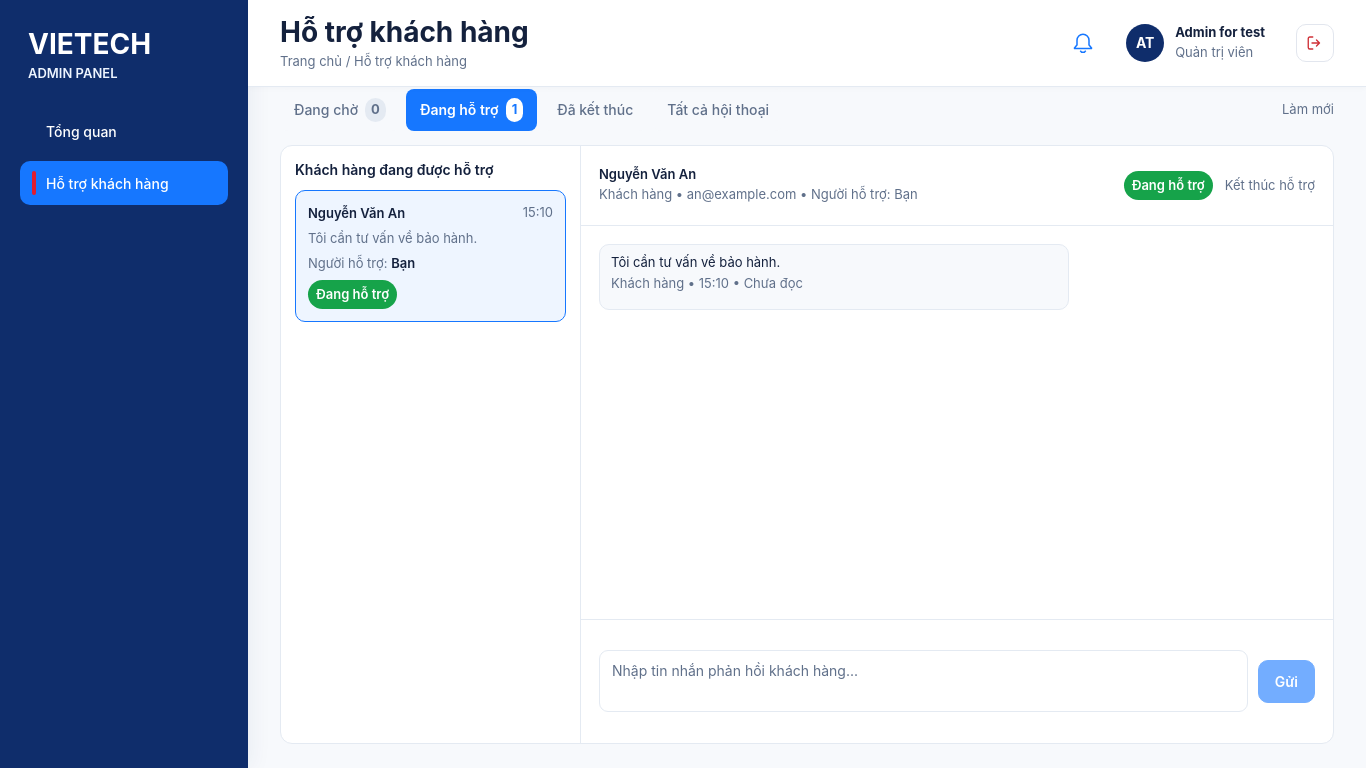
it: failed send opens a modal over the current page and closing preserves the draft
The image size is (1366, 768).
(page scrolled)
Type "<script>Không chạy mã</script>" into the text box named "Tin nhắn trả lời".
click(923, 681); type("<script>Không chạy mã</script>")  # box [599, 650, 1248, 712]
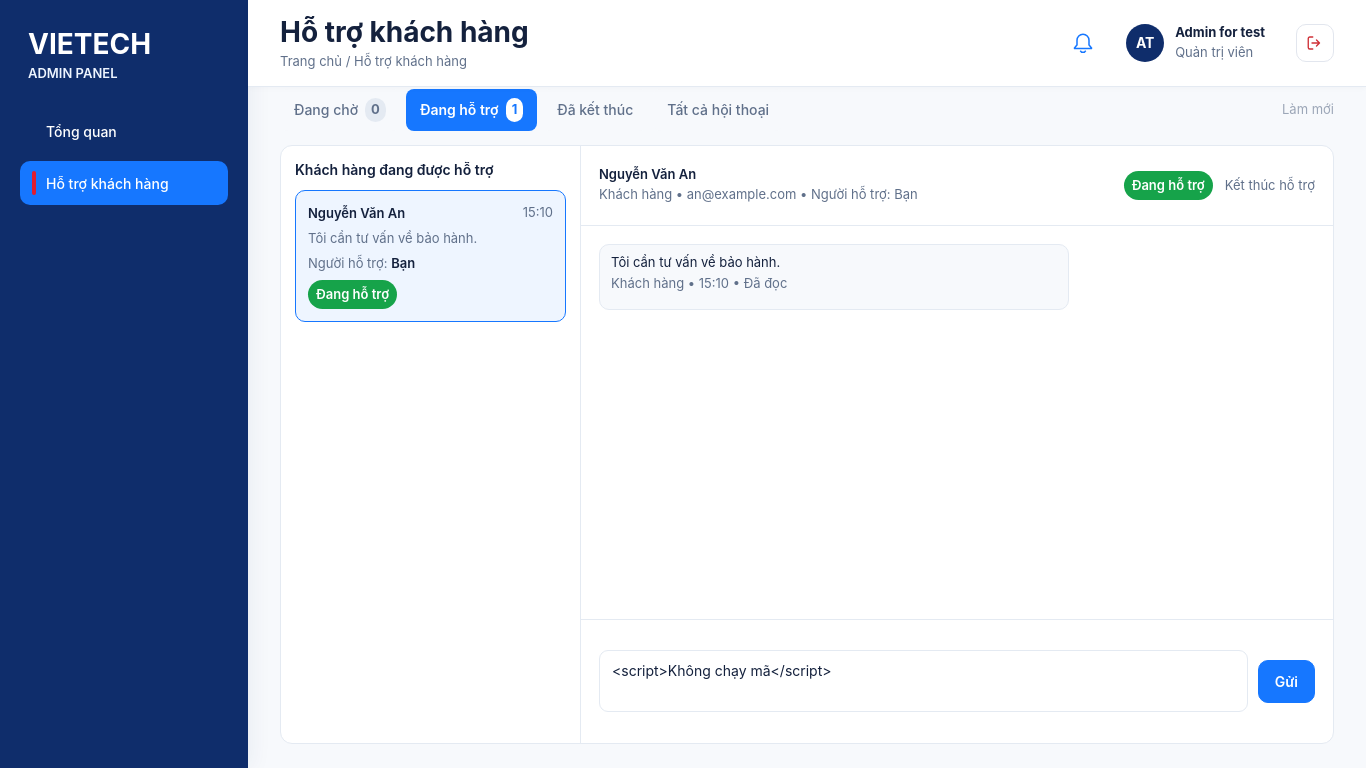
Click the button with aria-label "Gửi tin nhắn".
click(1286, 681)  # box [1258, 660, 1315, 703]
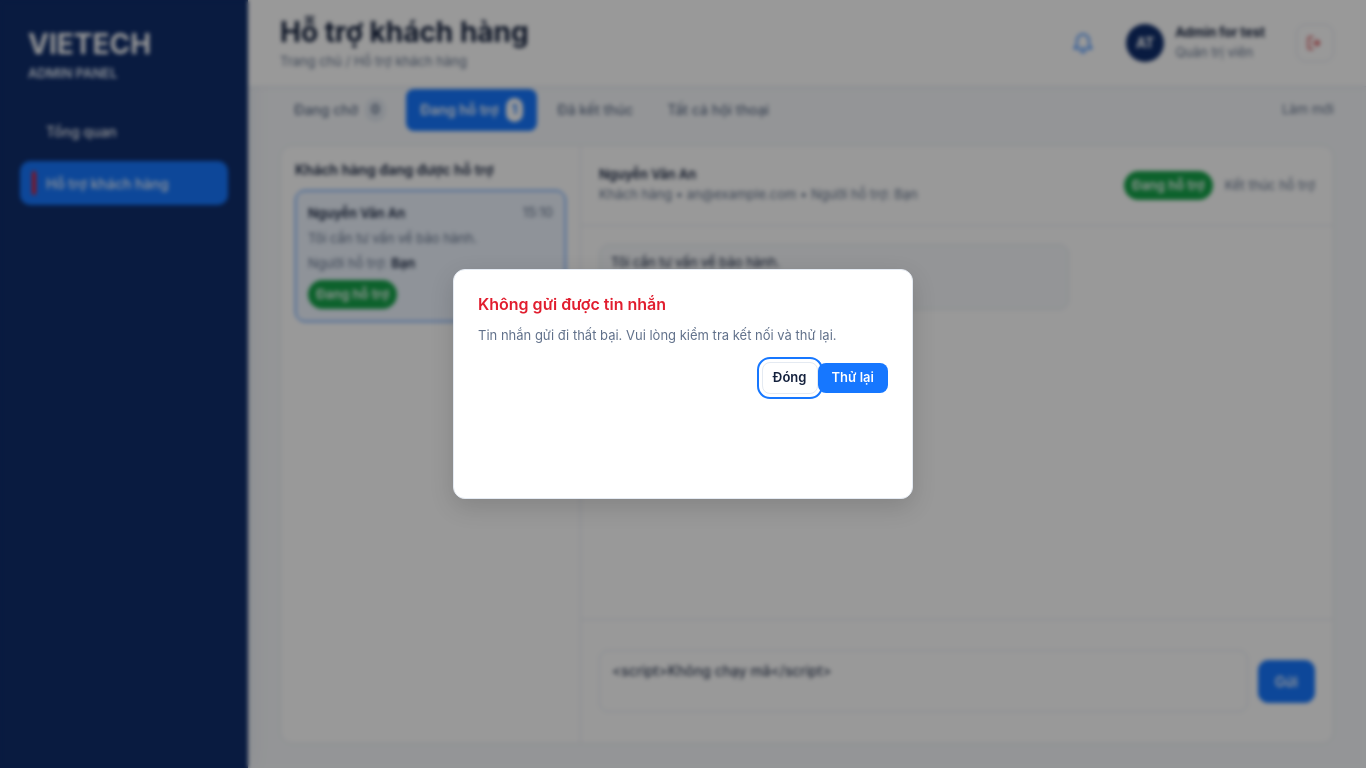
Now the text "Tin nhắn gửi đi thất bại. Vui lòng kiểm tra kết nối và thử lại." is shown, box [478, 326, 888, 346]
Now the number of dialogs is 1, box [453, 269, 913, 499]
Click the button "Đóng".
click(790, 378)  # box [762, 362, 818, 394]
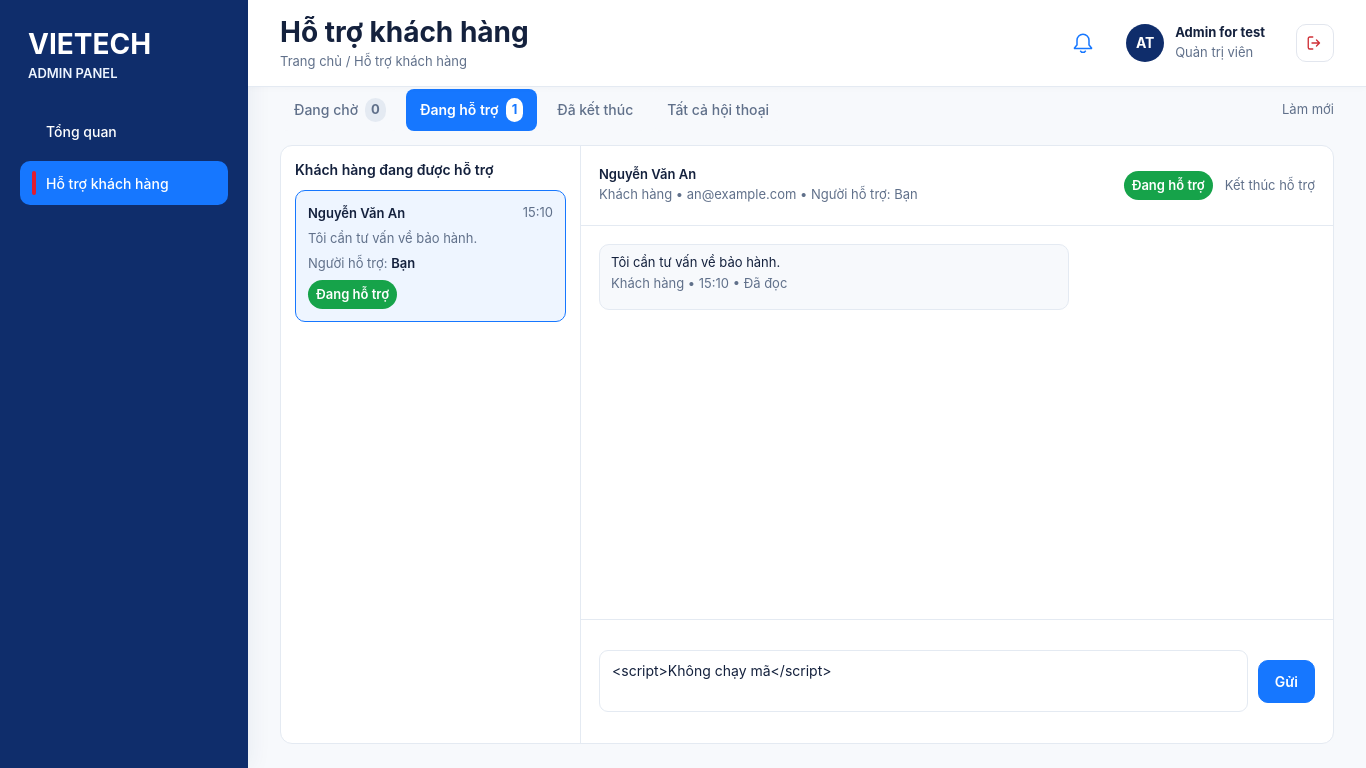
Now the button with aria-label "Gửi tin nhắn" is enabled
Now the dialog is gone
Click the button with aria-label "Gửi tin nhắn".
click(1286, 681)  # box [1258, 660, 1315, 703]
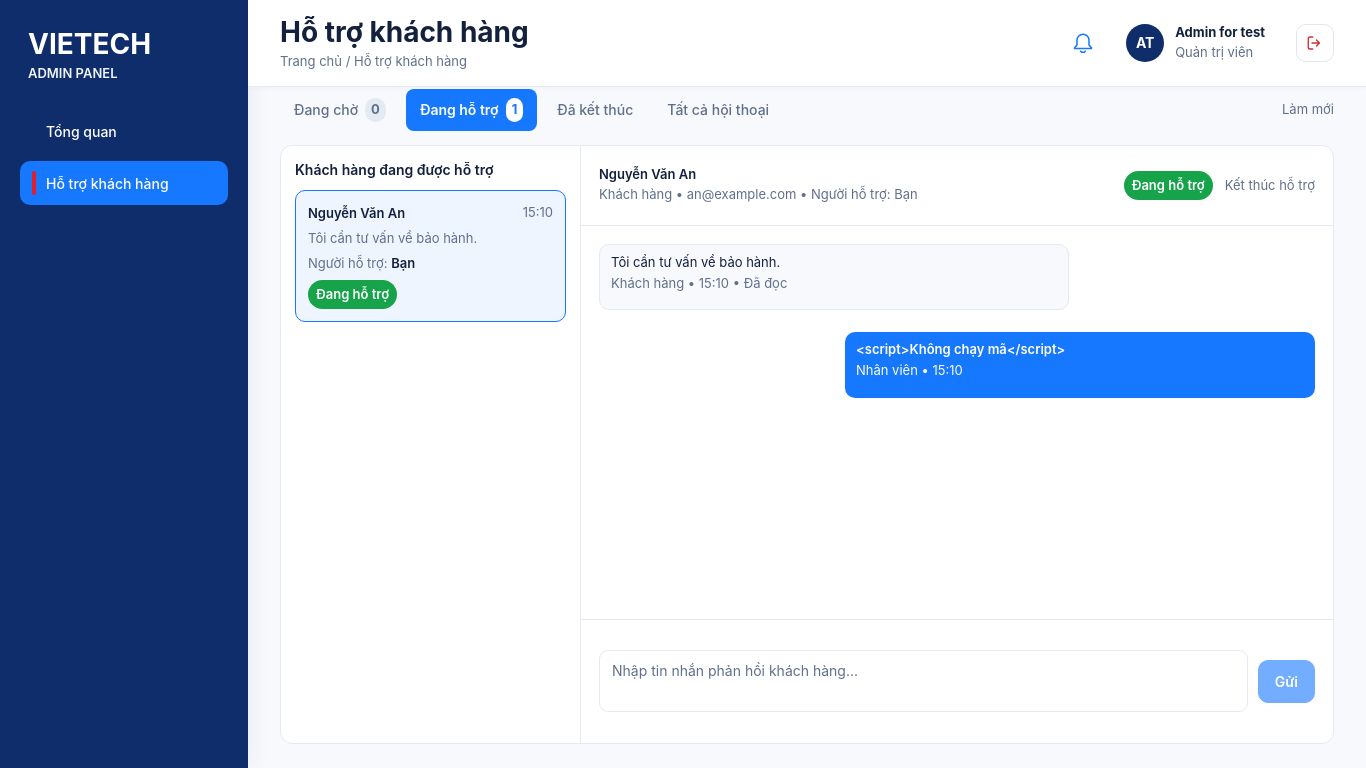
Now the text "<script>Không chạy mã</script>" is shown, box [856, 341, 1065, 357]
